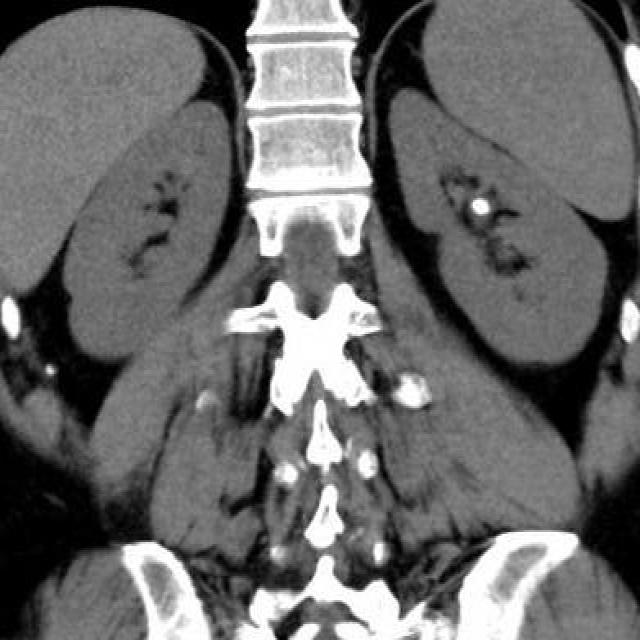Tas_Var: (469, 193, 493, 223)
